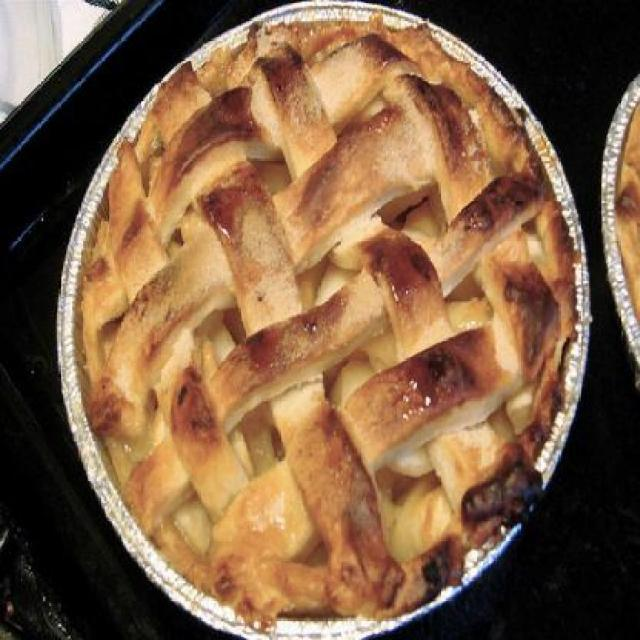Apple: (75, 14, 576, 603)
